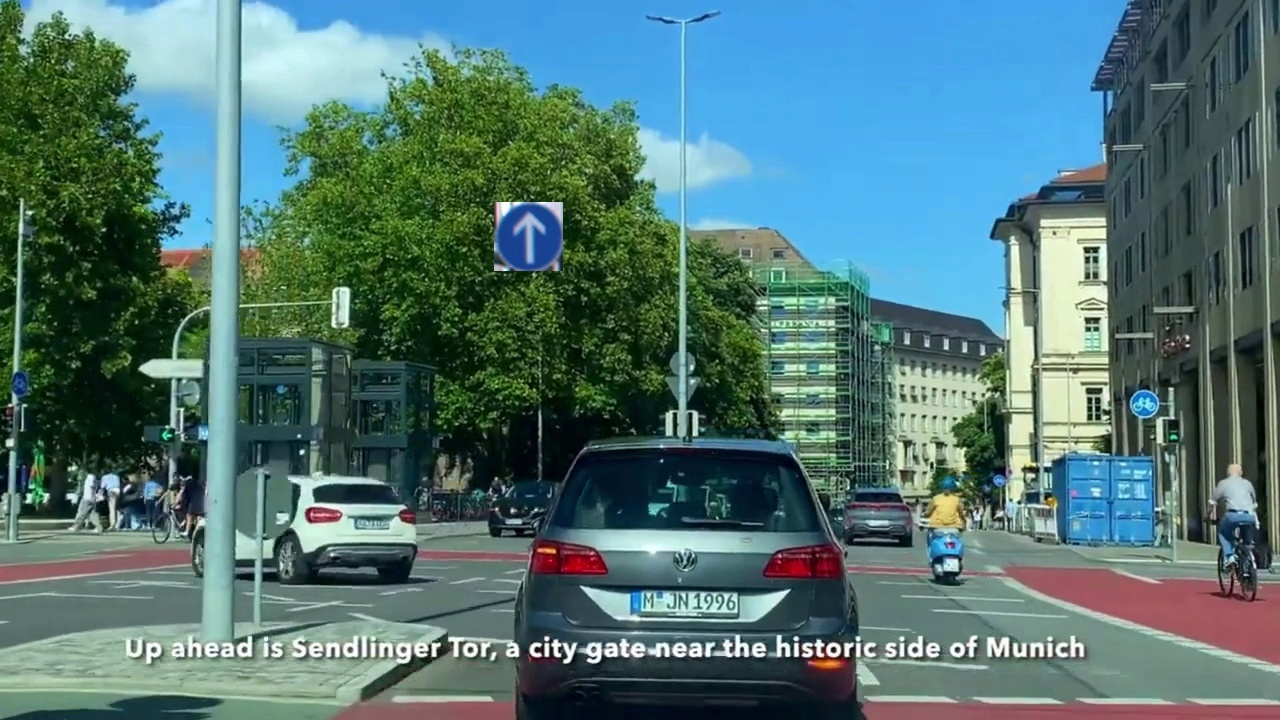Ahead only: (494, 202, 563, 271)
